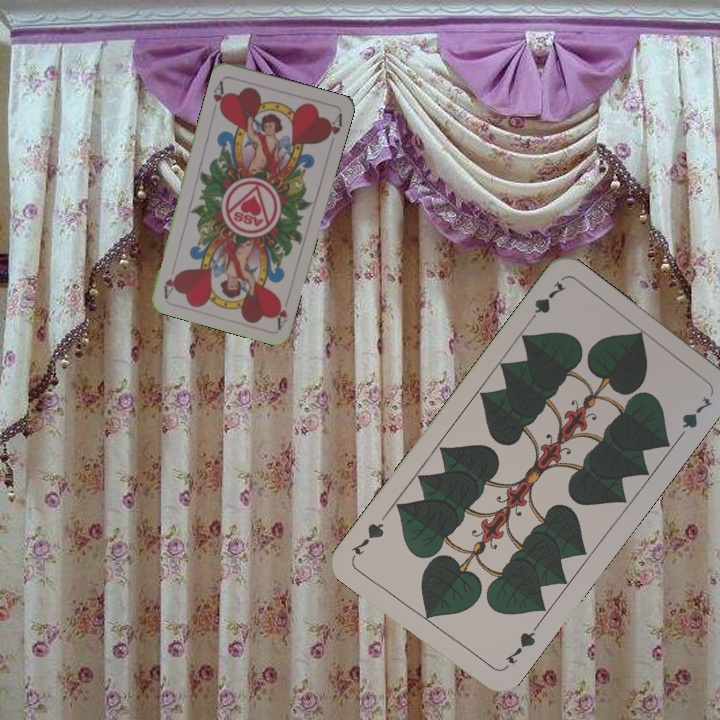G7: (523, 277, 569, 328), (501, 622, 540, 667)
HA: (270, 291, 292, 331), (209, 76, 229, 117)
